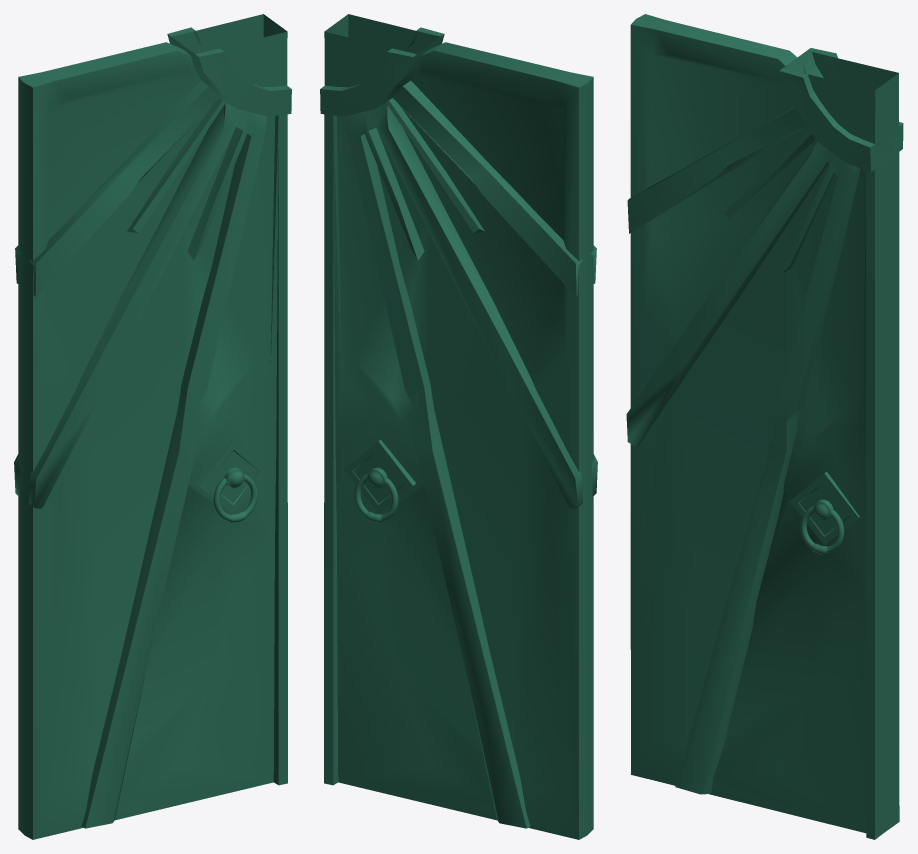
File: SM_gatemaindoor.fbx
The picture shows the model from 3 angles, left to right: view 1: azimuth 30°, elevation 25°; view 2: azimuth 150°, elevation 25°; view 3: azimuth 330°, elevation 25°; orthographic projection.
Parts seen in each view (by area): view 1: SM_gatemaindoor; view 2: SM_gatemaindoor; view 3: SM_gatemaindoor.
Boxes of the visible parts, x1,y1,x2,y2 form: SM_gatemaindoor: (14, 14, 291, 839); SM_gatemaindoor: (320, 14, 597, 839); SM_gatemaindoor: (626, 14, 903, 839).
Bounding box in the file's own units: 350 × 1000 × 80.33.
